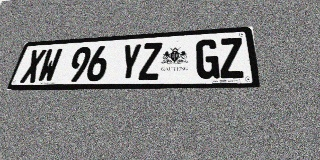6: (85, 45, 110, 81)
9: (66, 46, 92, 82)
G: (196, 39, 220, 79)
W: (36, 48, 63, 82)
X: (20, 49, 47, 83)
Y: (117, 43, 142, 81)
Z: (219, 37, 245, 79), (138, 42, 162, 80)
